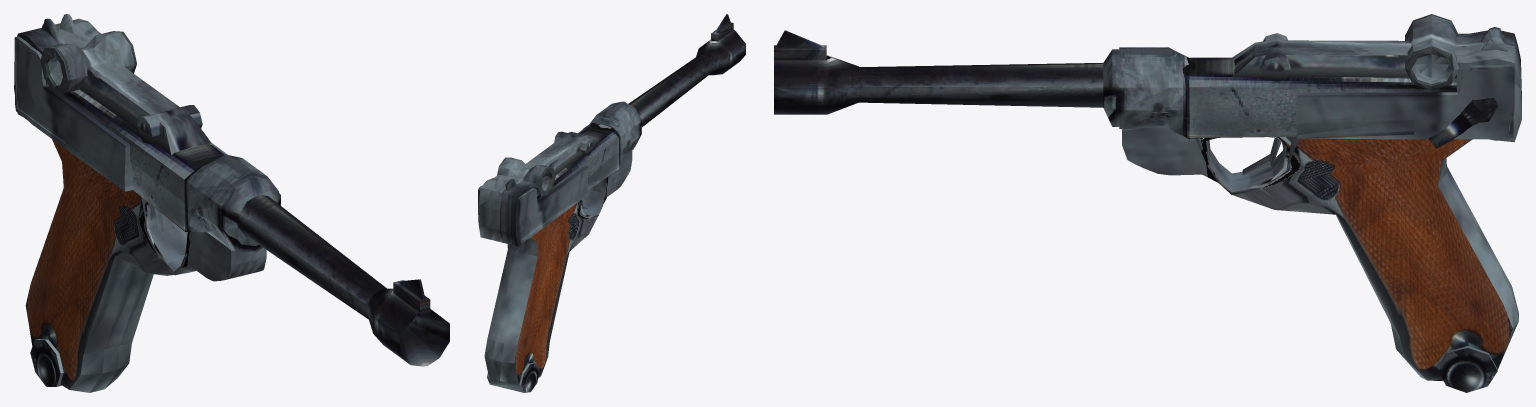
File: luger.obj
3 views of the same model, side by side, from view 1: azimuth 30°, elevation 25°; view 2: azimuth 150°, elevation 25°; view 3: azimuth 270°, elevation 25° (orthographic). The views are drawn at different scales.
Visible parts, largest first — view 1: handel, barral, top, r_workingparts2; view 2: handel, barral, top, r_workingparts2; view 3: handel, barral, top, l_workingparts2, clickthing.
Part boxes in pixels (x1,y1,x2,y2): handel: (25,139,266,392); barral: (60,89,449,366); top: (14,14,212,154); r_workingparts2: (14,36,133,191); handel: (484,151,632,392); barral: (537,14,745,200); top: (478,131,599,246); r_workingparts2: (518,165,588,243); handel: (1122,127,1518,392); barral: (774,30,1456,139); top: (1232,14,1521,142); l_workingparts2: (1296,64,1514,139); clickthing: (1428,97,1497,148).
Size of the model in its own units: 1.42 by 6.73 by 13.09.
6 materials, 6 textured.
